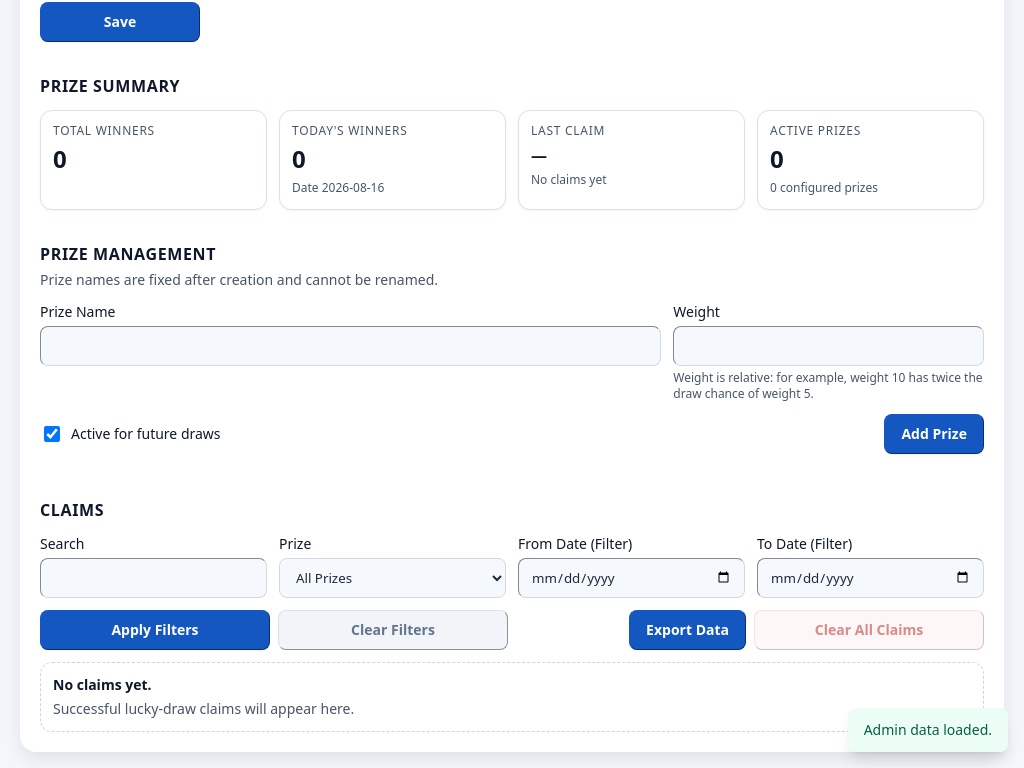
Test: admin operations page › tells the admin there is nothing to export when no claims exist
(page scrolled)
What coordinates should you click on to do the following:
click the button "Export Data"
I would click on:
 (688, 630)
Its box is [629,610,746,650].
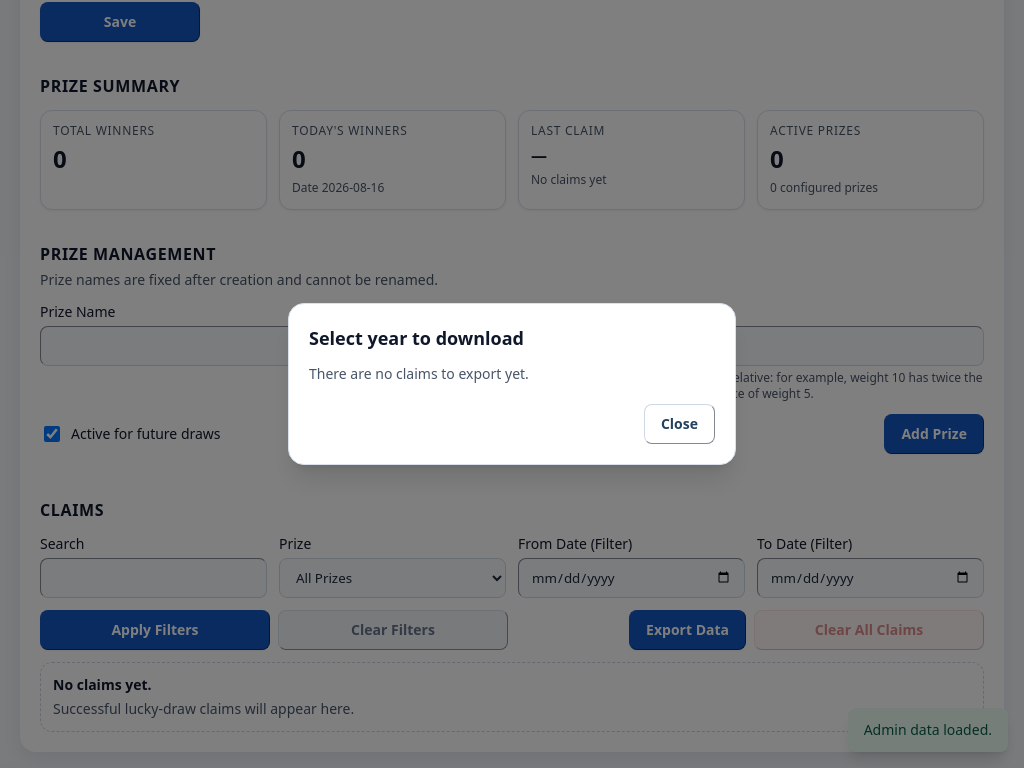
Now the text "There are no claims to export yet." is shown, box [309,364,529,383]
